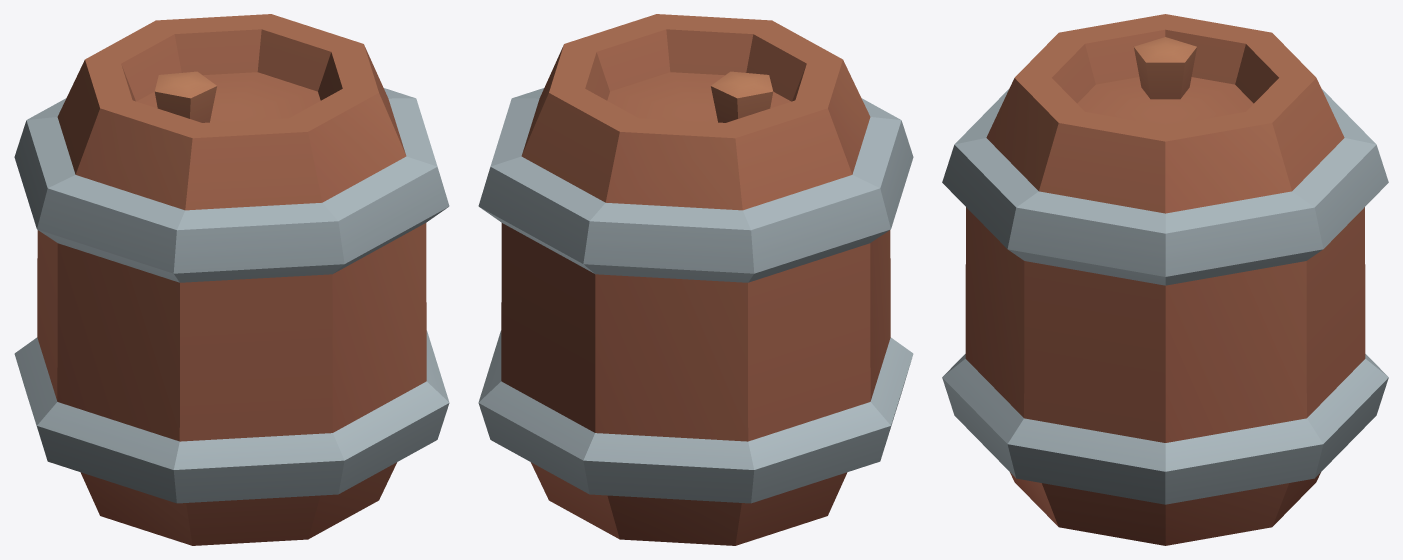
Rendered from barrel_small.gltf.
3 renders of one model, left to right at view 1: azimuth 30°, elevation 25°; view 2: azimuth 150°, elevation 25°; view 3: azimuth 270°, elevation 25°, orthographic.
Parts seen in each view (by area): view 1: barrel_small; view 2: barrel_small; view 3: barrel_small.
Part boxes in pixels (x1,y1,x2,y2): barrel_small: (14,14,449,545); barrel_small: (478,14,913,545); barrel_small: (942,14,1388,545).
Size of the model in its own units: 1 by 1.02 by 1.
1 material, 1 textured.
